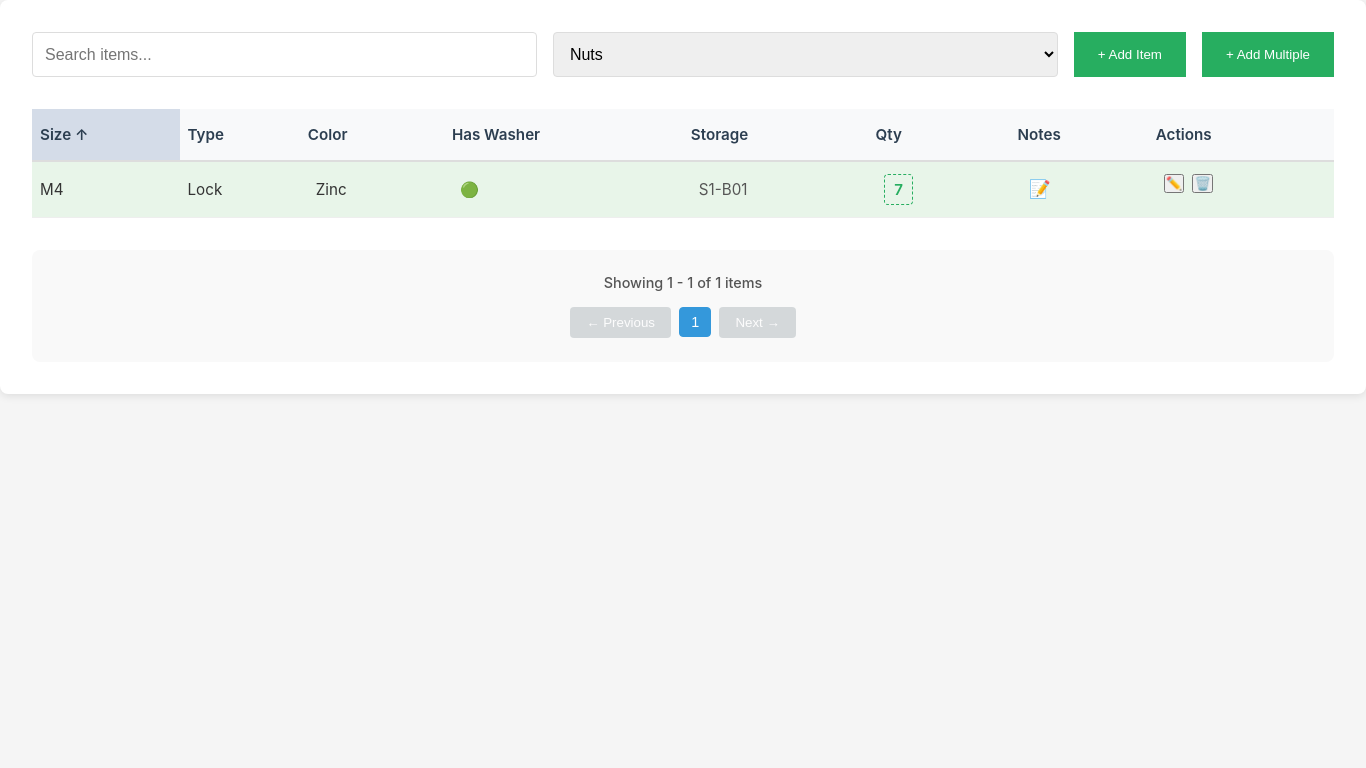
Test: choosing the kind of item › is fixed while editing, because an item cannot move to another table
The width and height of the screenshot is (1366, 768).
Click the button titled "Edit".
click(1174, 184)  # box [1164, 174, 1184, 193]
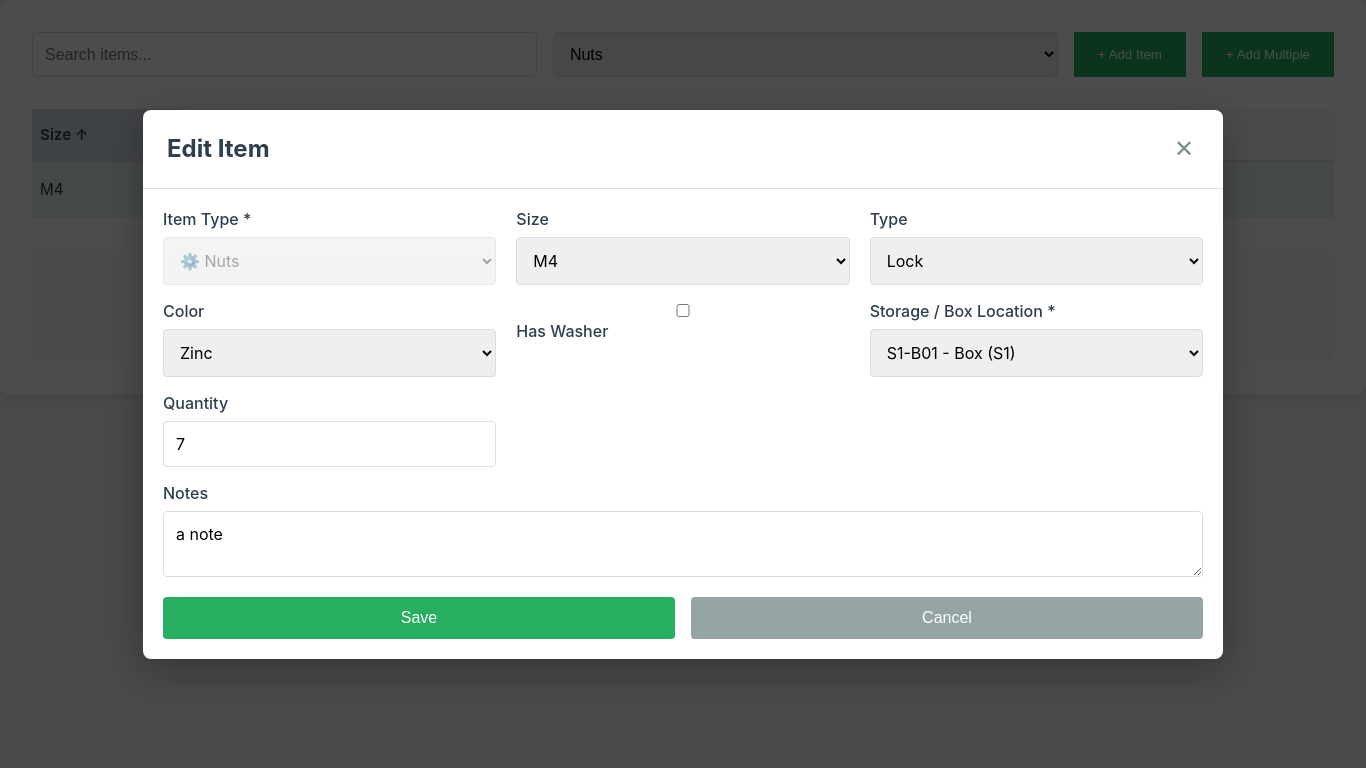
Expected: the dropdown below "Item Type *" is disabled, [163, 236, 496, 284]
Expected: the dropdown below "Item Type *" shows "⚙️ Nuts", [163, 236, 496, 284]
